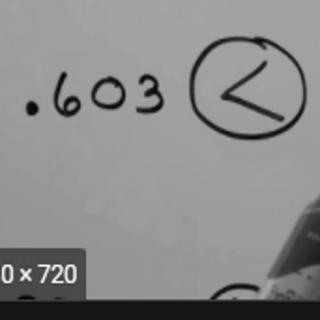.: (21, 97, 40, 115)
0: (90, 75, 126, 110), (1, 261, 15, 285), (65, 260, 78, 285)
2: (50, 262, 66, 286)
3: (135, 73, 165, 116)
6: (52, 70, 80, 119)
7: (34, 260, 49, 284)
